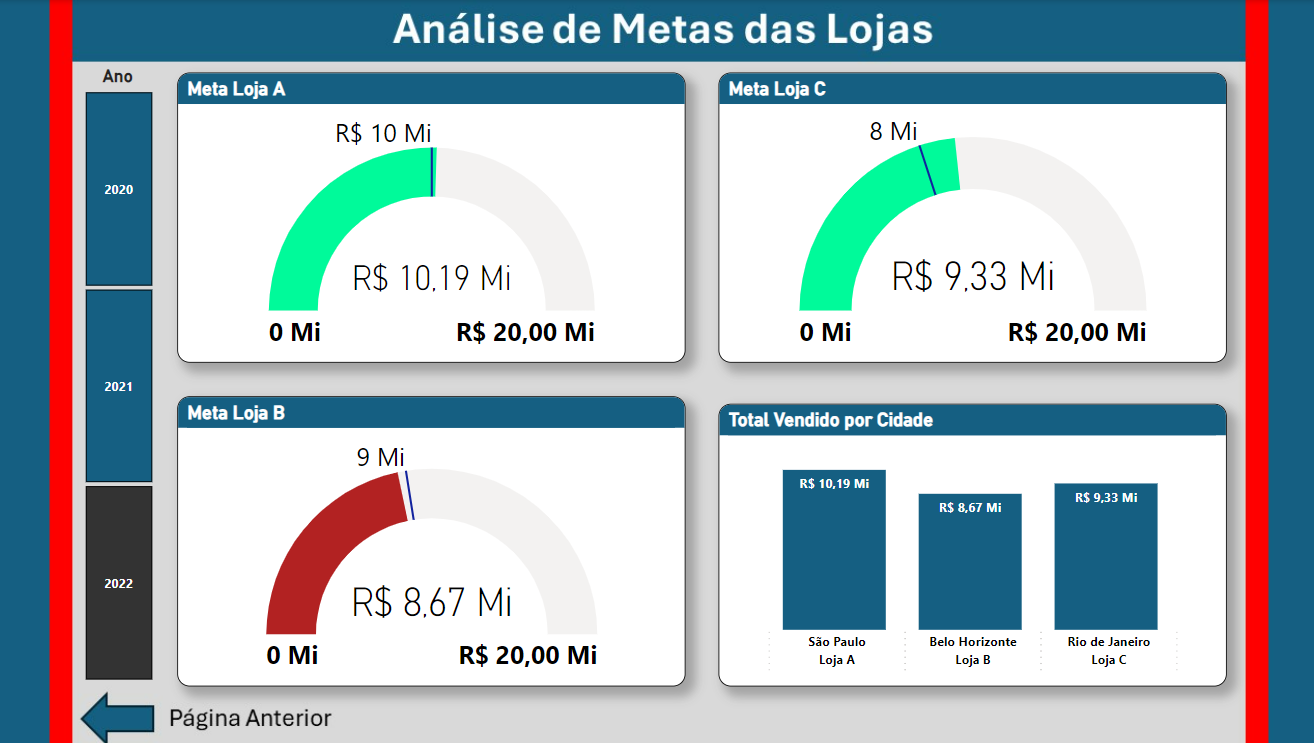

Layout of this report page (visuals, bound fields, positions):
{"tool":"powerbi","page":{"name":"Dashboard - Pg 4","canvas":[1280,720],"ordinal":4},"visuals":[{"type":"gauge","title":"Meta Loja A","fields":{"TargetValue":["MEDIDAS.Meta_Loja_A"],"Y":["MEDIDAS.Lucro_Loja_A"],"MinValue":["MEDIDAS.Valor_minimo_lucro_lojas"]},"box":[174.3,70,490,280],"z":0},{"type":"slicer","title":"Ano","fields":{"Values":["Vendas.Data.Variation.Hierarquia de datas.Ano"]},"box":[60,62.9,114.3,600],"z":1000},{"type":"gauge","title":"Meta Loja B","fields":{"MinValue":["MEDIDAS.Valor_minimo_lucro_lojas"],"Y":["MEDIDAS.Lucro_Loja_B"],"TargetValue":["MEDIDAS.Meta_Loja_B"]},"box":[174.3,382.9,490,280],"z":2000},{"type":"gauge","title":"Meta Loja C","fields":{"MinValue":["MEDIDAS.Valor_minimo_lucro_lojas"],"Y":["MEDIDAS.Lucro_Loja_C"],"TargetValue":["MEDIDAS.Meta_Loja_C"]},"box":[697.1,70,490,280],"z":3000},{"type":"actionButton","box":[72.9,672.9,88.6,47.1],"z":4000},{"type":"clusteredColumnChart","title":"Total Vendido por Cidade","fields":{"Y":["Sum(Vendas.Valor Total)"],"Category":["Vendas.Loja","Vendas.Cidade"]},"box":[697.5,390,490,272.5],"z":5000}]}

Visuals, with their boxes in screenshot pixels (x1, y1, x2, y2), scaled from the page's 1280x720 canvas onto the 1314x743 screenshot:
"Meta Loja A" gauge: (x1=179, y1=72, x2=682, y2=361)
"Ano" slicer: (x1=62, y1=65, x2=179, y2=684)
"Meta Loja B" gauge: (x1=179, y1=395, x2=682, y2=684)
"Meta Loja C" gauge: (x1=716, y1=72, x2=1219, y2=361)
actionButton: (x1=75, y1=694, x2=166, y2=742)
"Total Vendido por Cidade" clusteredColumnChart: (x1=716, y1=402, x2=1219, y2=684)
